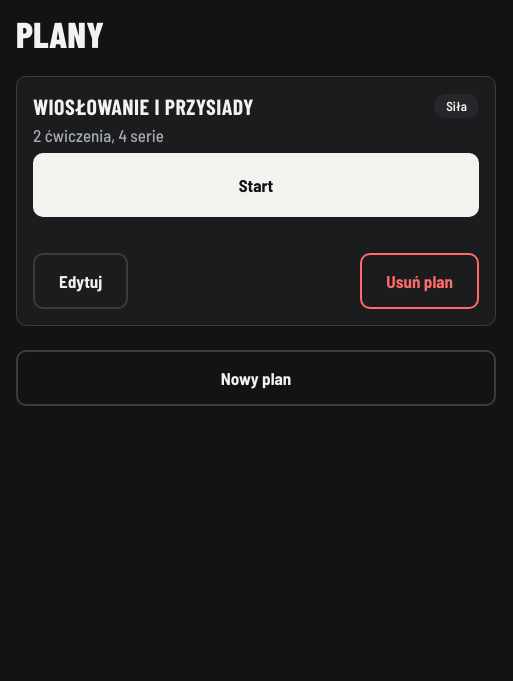
Scenario: "Zakończ trening" › is a danger button at the top of the set view, before the heading, at least 56 px tall
The width and height of the screenshot is (513, 681).
Click the button "Start" at (256, 185), box [33,153,479,217]
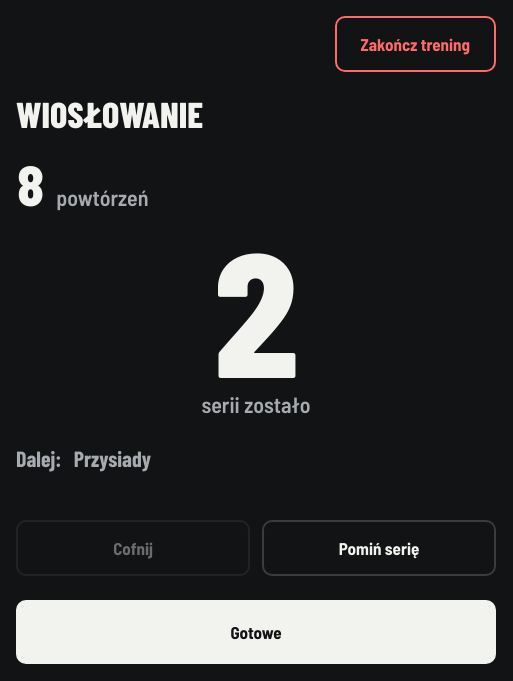
Now the button "Gotowe" is shown, box [16,600,496,664]
